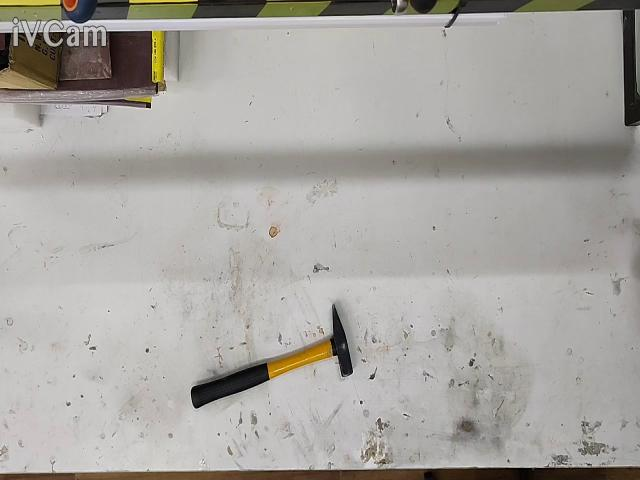Hammer: (191, 305, 352, 408)
